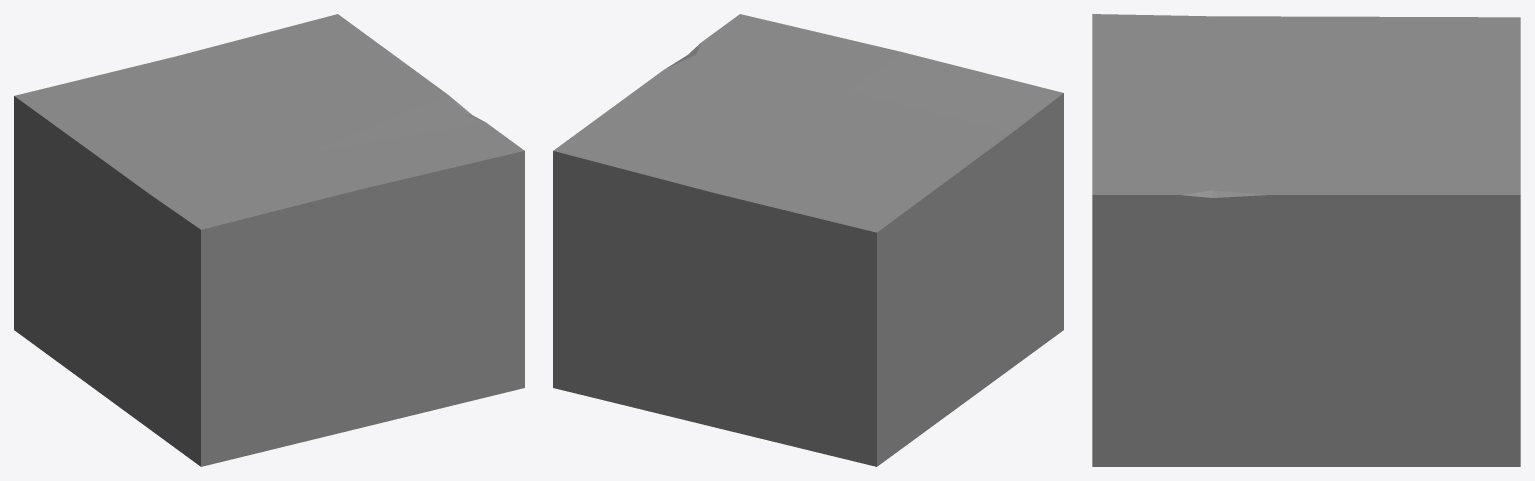
Rendered from Tile_Foundations_01.fbx.
3 views of the same model, side by side, from view 1: azimuth 30°, elevation 25°; view 2: azimuth 150°, elevation 25°; view 3: azimuth 270°, elevation 25° (orthographic). The views are drawn at different scales.
Parts seen in each view (by area): view 1: Cube.005; view 2: Cube.005; view 3: Cube.005.
Boxes of the visible parts, left/top/right/bottom form: Cube.005: left=14, top=14, right=524, bottom=466; Cube.005: left=553, top=14, right=1063, bottom=466; Cube.005: left=1092, top=14, right=1520, bottom=466.
Bounding box in the file's own units: 200 × 141 × 200.
